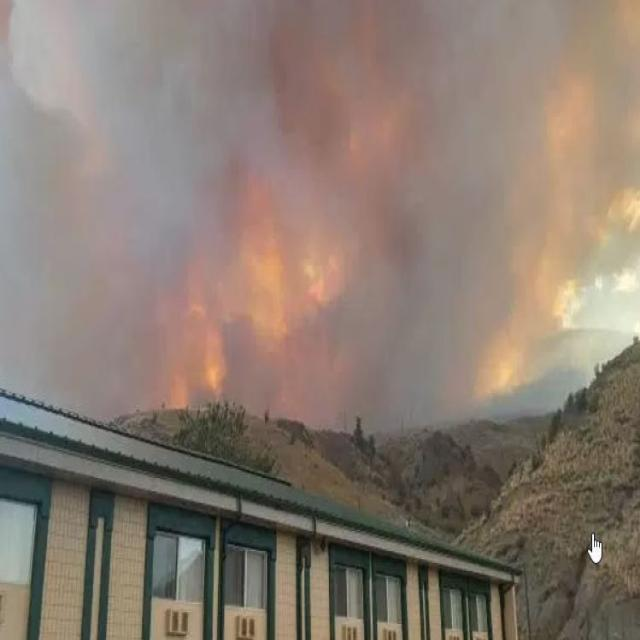Fire: (476, 333, 524, 394), (169, 375, 188, 408)
Smoke: (17, 49, 46, 179)
